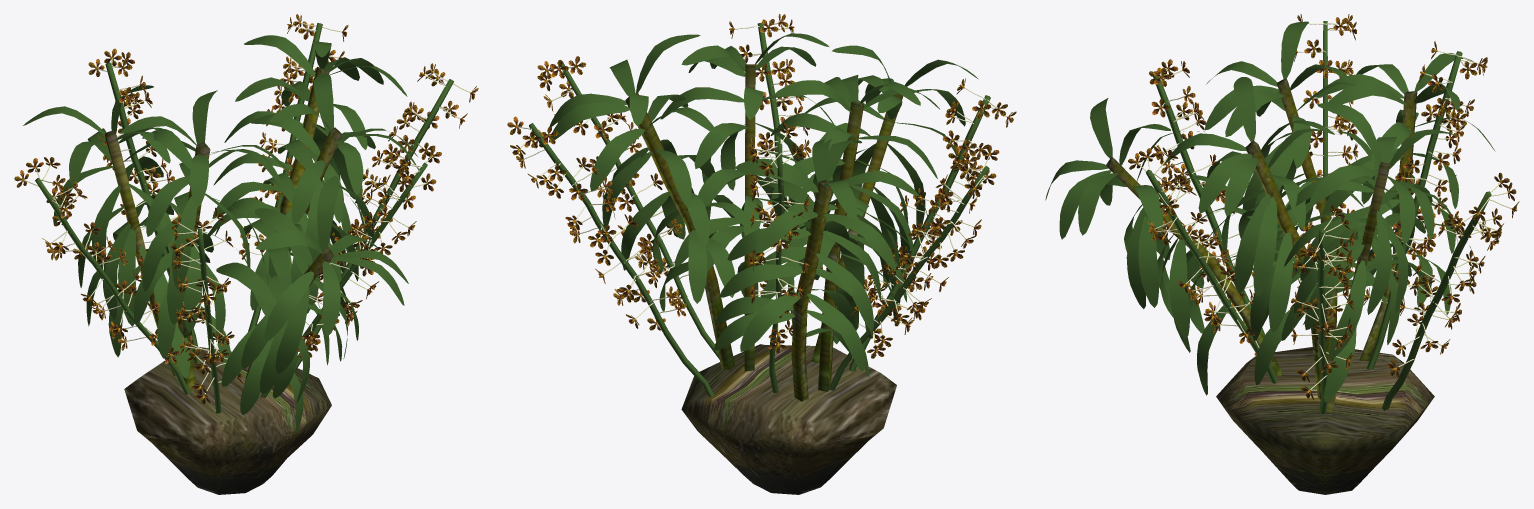
The model's file is anggrek raksasa.fbx.
3 renders of one model, left to right at view 1: azimuth 30°, elevation 25°; view 2: azimuth 150°, elevation 25°; view 3: azimuth 270°, elevation 25°, orthographic. The views are drawn at different scales.
Parts seen in each view (by area): view 1: Cube.001, Cube.011, Cube, Cube.010|Plane|Dupli|15, Cube.010|Plane|Dupli|13, Cube.009|Plane|Dupli|15, Cube.003, Cube.006, Cube.010|Plane|Dupli|23, Cube.010|Plane|Dupli|12, Cube.008|Plane|Dupli|13, Cube.005 (+42 smaller); view 2: Cube.001, Cube.011, Cube.007, Cube.009, Cube.004, Cube, Cube.003, Cube.008, Cube.005, Cube.011|Plane|Dupli|7, Cube.011|Plane|Dupli|8, Cube.010 (+35 smaller); view 3: Cube.001, Cube.010, Cube.008, Cube.004, Cube.006, Cube.011, Cube.008|Plane|Dupli|17, Cube.002, Cube.008|Plane|Dupli|11, Cube.010|Plane|Dupli|11, Cube.008|Plane|Dupli|6, Cube.009 (+43 smaller).
Part boxes in pixels (x1,y1,x2,y2): Cube.001: [124, 347, 331, 494]; Cube.011: [105, 130, 181, 376]; Cube: [35, 178, 190, 394]; Cube.010|Plane|Dupli|15: [275, 287, 309, 373]; Cube.010|Plane|Dupli|13: [264, 271, 313, 341]; Cube.009|Plane|Dupli|15: [171, 196, 197, 289]; Cube.003: [295, 79, 453, 370]; Cube.006: [105, 62, 201, 365]; Cube.010|Plane|Dupli|23: [317, 175, 339, 250]; Cube.010|Plane|Dupli|12: [322, 261, 340, 336]; Cube.008|Plane|Dupli|13: [291, 160, 325, 224]; Cube.005: [197, 229, 221, 413]; Cube.001: [681, 344, 896, 494]; Cube.011: [791, 180, 831, 401]; Cube.007: [625, 93, 734, 369]; Cube.009: [818, 101, 864, 391]; Cube.004: [529, 123, 713, 396]; Cube: [829, 166, 989, 390]; Cube.003: [560, 61, 719, 359]; Cube.008: [744, 64, 755, 371]; Cube.005: [849, 95, 990, 371]; Cube.011|Plane|Dupli|7: [740, 292, 800, 351]; Cube.011|Plane|Dupli|8: [720, 264, 803, 297]; Cube.010: [811, 93, 903, 362]; Cube.001: [1216, 347, 1434, 494]; Cube.010: [1105, 157, 1283, 375]; Cube.008: [1245, 140, 1328, 399]; Cube.004: [1382, 191, 1491, 410]; Cube.006: [1366, 51, 1462, 369]; Cube.011: [1359, 91, 1417, 360]; Cube.008|Plane|Dupli|17: [1253, 197, 1277, 296]; Cube.002: [1146, 169, 1277, 383]; Cube.008|Plane|Dupli|11: [1268, 232, 1292, 332]; Cube.010|Plane|Dupli|11: [1169, 239, 1190, 339]; Cube.008|Plane|Dupli|6: [1235, 193, 1270, 293]; Cube.009: [1276, 78, 1337, 361].
Size of the model in its own units: 8057 by 7060 by 7130.
3 materials, 2 textured.
